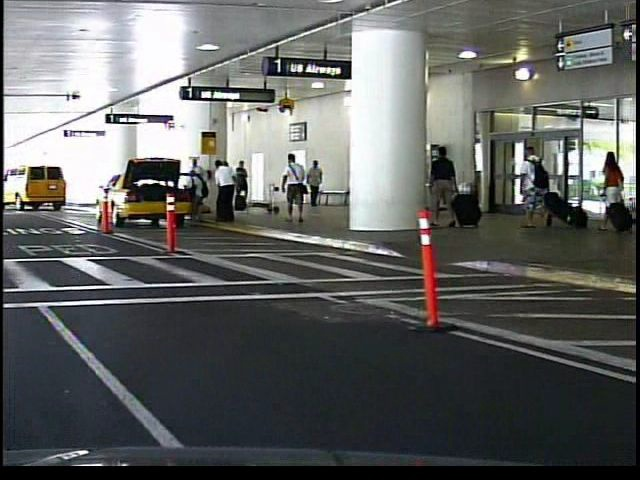person: (512, 142, 551, 231), (591, 145, 626, 231), (424, 142, 454, 229), (276, 151, 307, 224), (305, 160, 324, 209)
